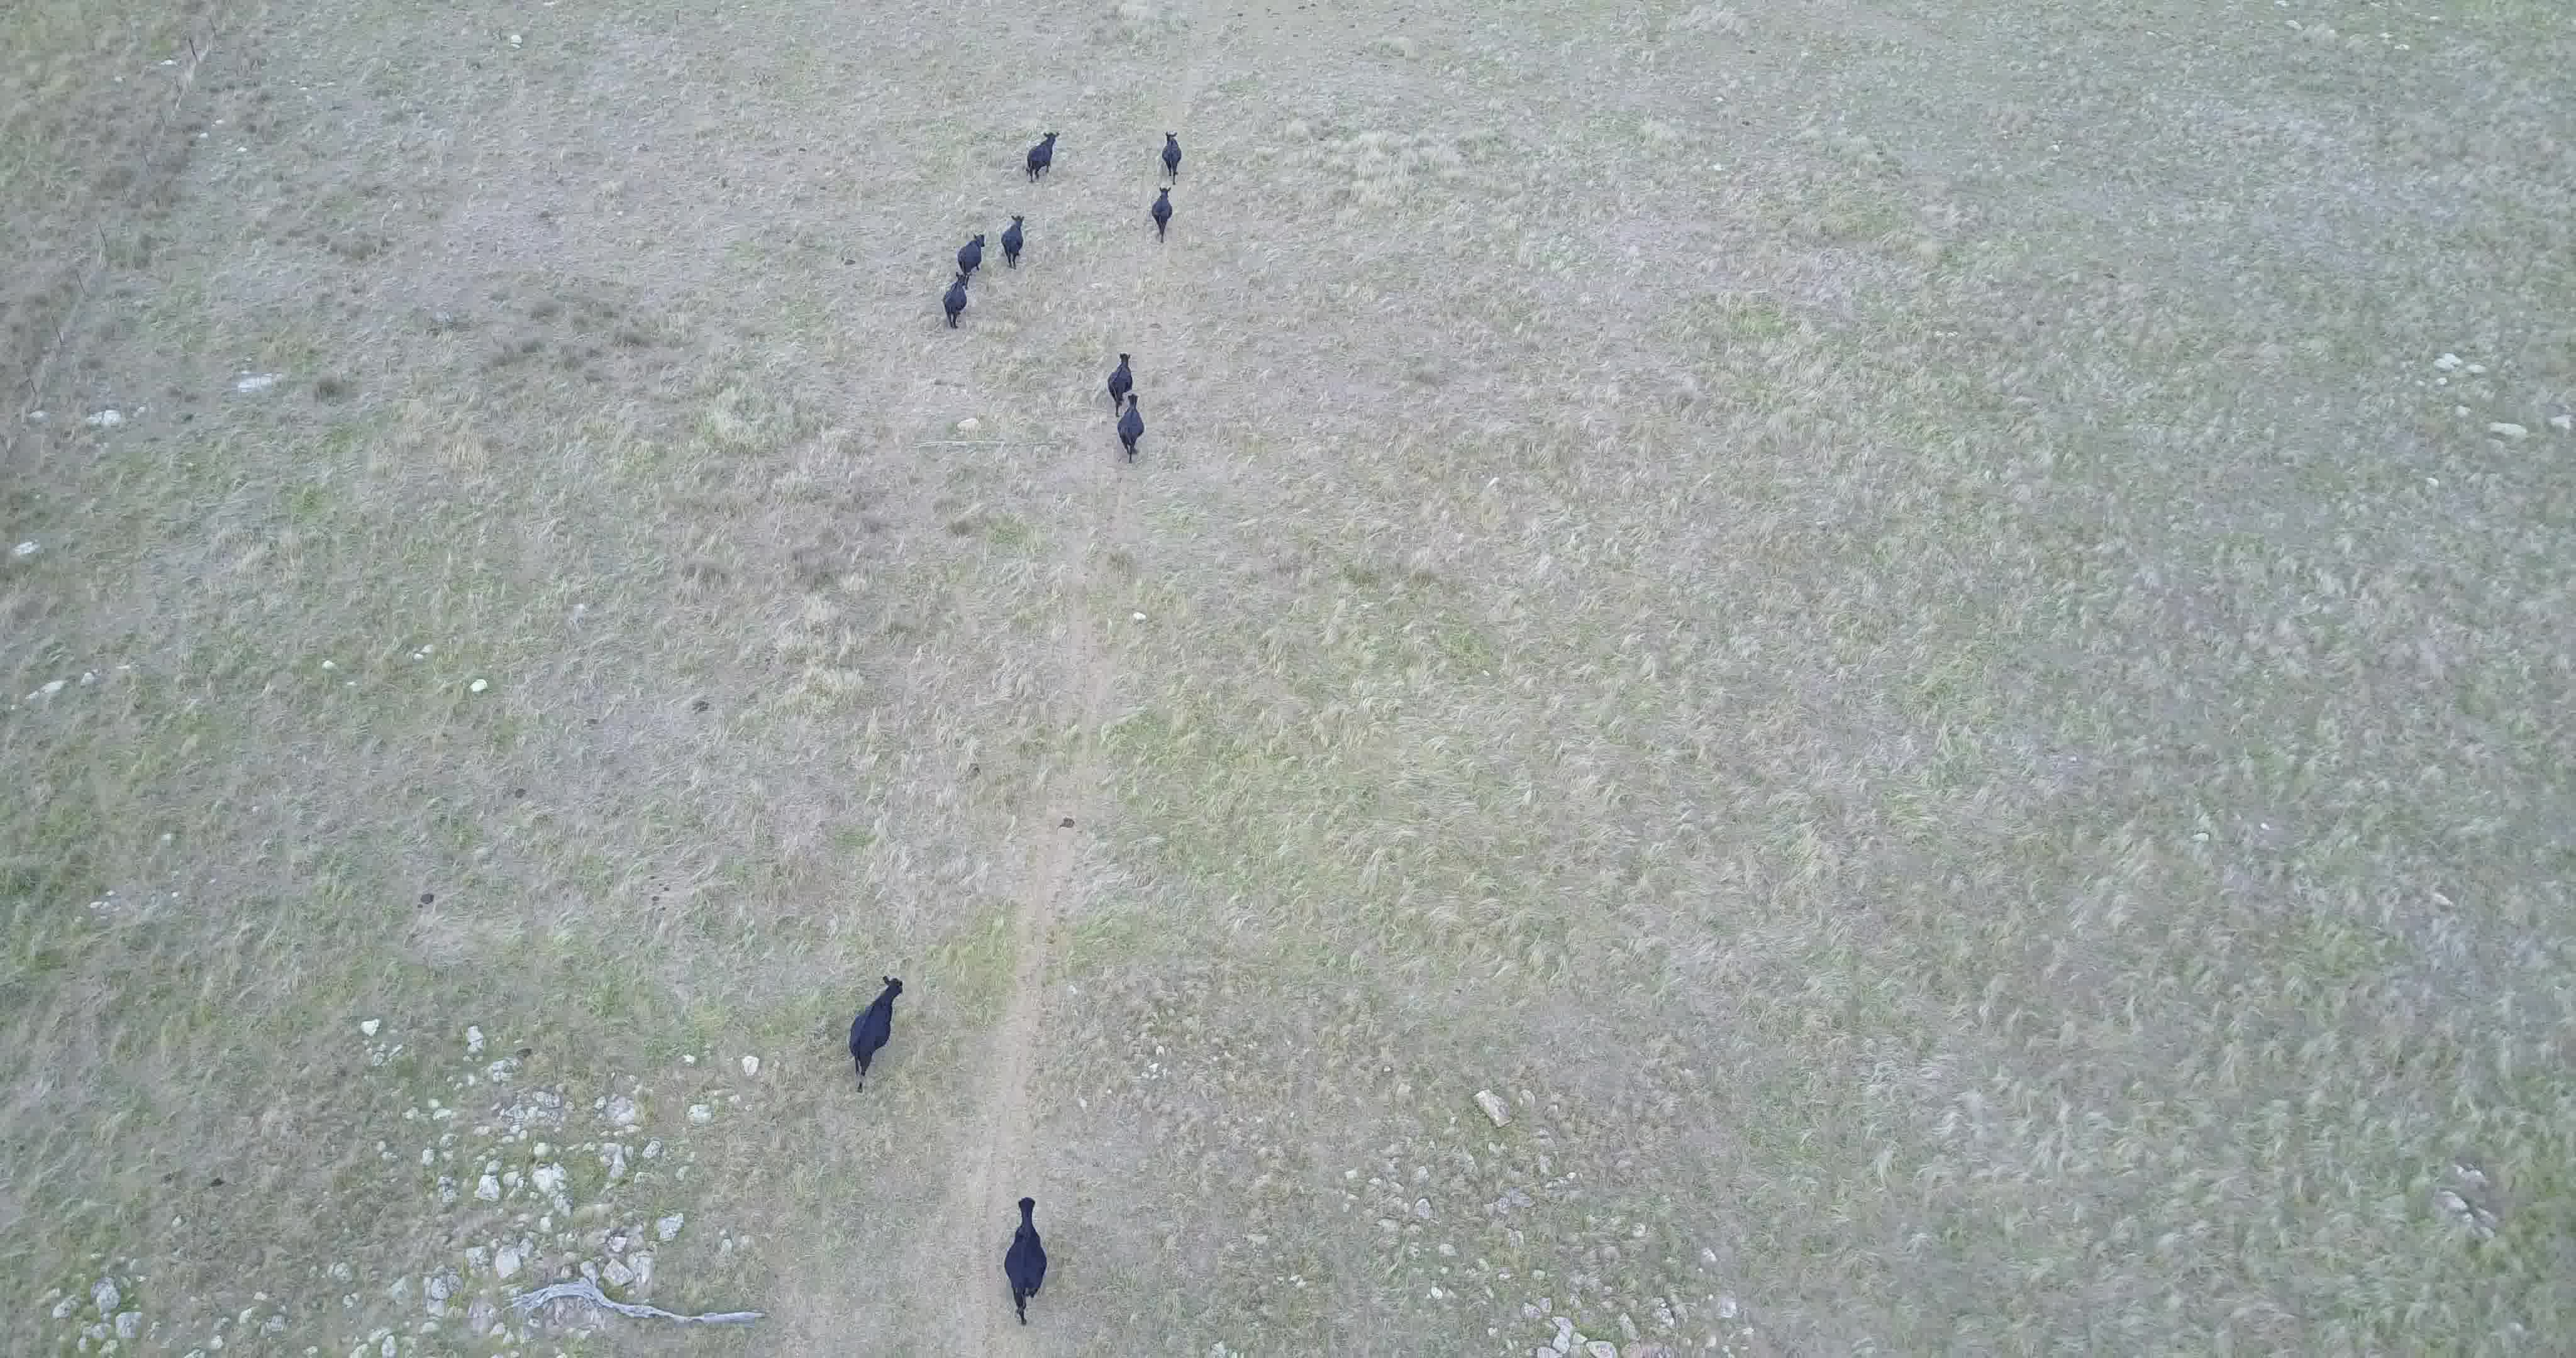cattle: (843, 975, 910, 1096), (997, 1194, 1049, 1332), (1111, 394, 1150, 465), (1021, 128, 1061, 191), (1106, 351, 1135, 407), (1148, 186, 1176, 245), (940, 273, 968, 331), (1159, 124, 1184, 186), (956, 230, 986, 281), (1000, 213, 1026, 273)
